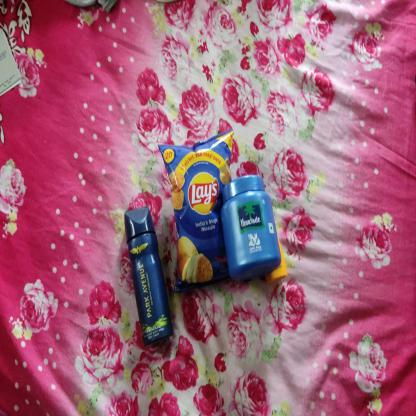indian_magic_masala: (159, 131, 232, 290)
